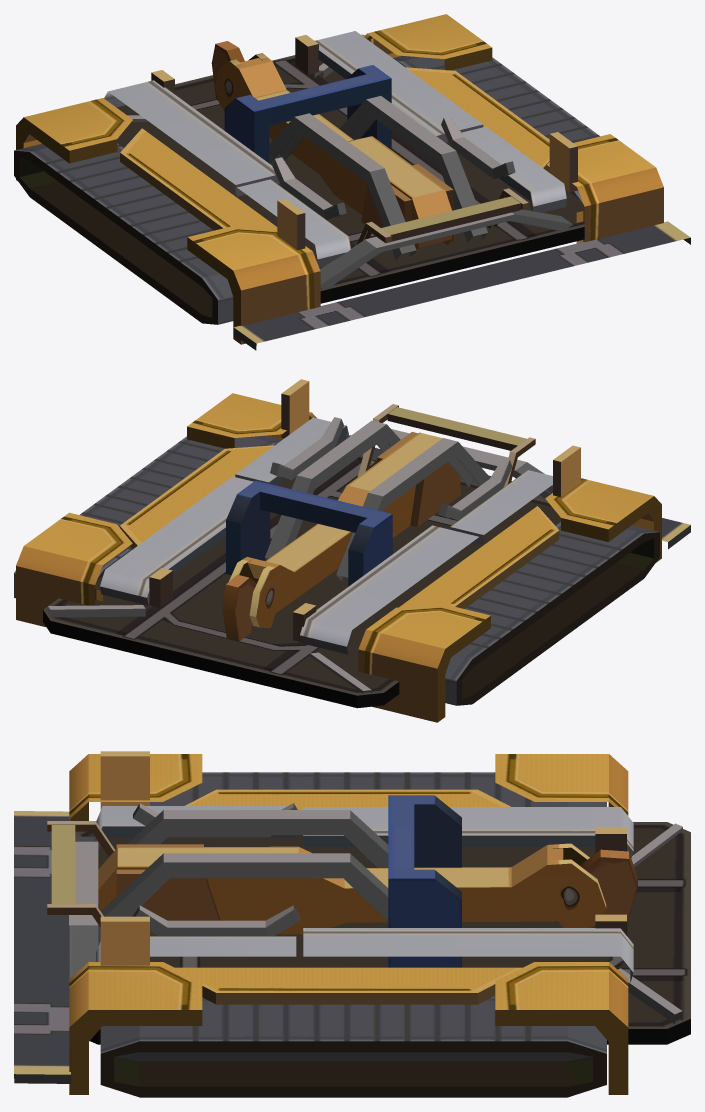
The model's file is trap_167_muruinf2.fbx.
3 renders of one model, top to bottom at view 1: azimuth 30°, elevation 25°; view 2: azimuth 150°, elevation 25°; view 3: azimuth 270°, elevation 25°, orthographic. The views are drawn at different scales.
Visible parts, largest first — view 1: trap_167_muruinf2; view 2: trap_167_muruinf2; view 3: trap_167_muruinf2.
Part boxes in pixels (<box>): trap_167_muruinf2: <box>14,14,690,350</box>; trap_167_muruinf2: <box>14,379,690,722</box>; trap_167_muruinf2: <box>14,751,690,1097</box>.
Size of the model in its own units: 0.929 by 0.2565 by 0.988.
1 material, 1 textured.
